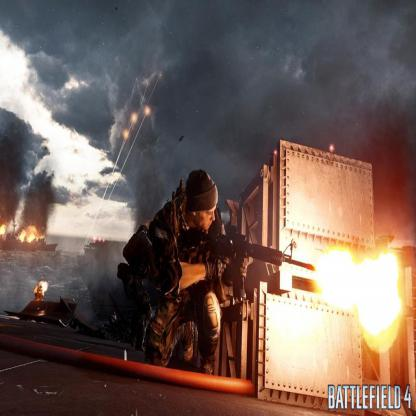face: (196, 201, 218, 231), (223, 248, 238, 286)
